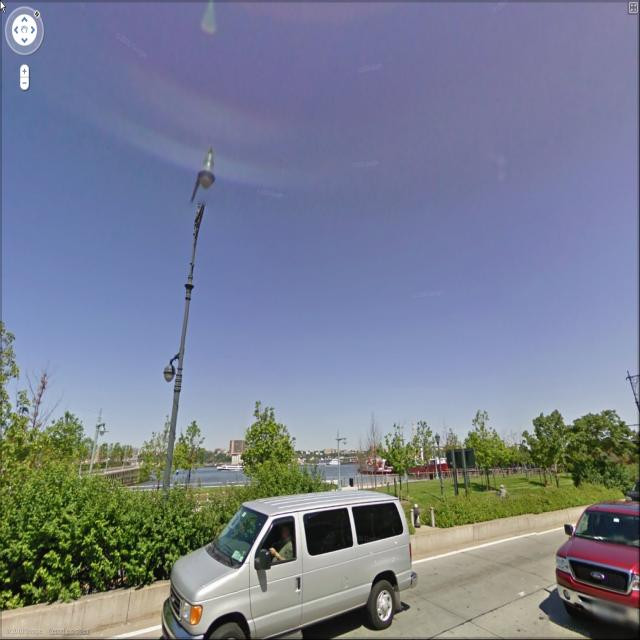b_1: (225, 436, 248, 466)
